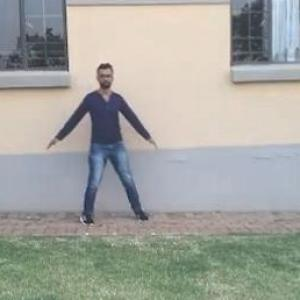land: (48, 67, 158, 236)
